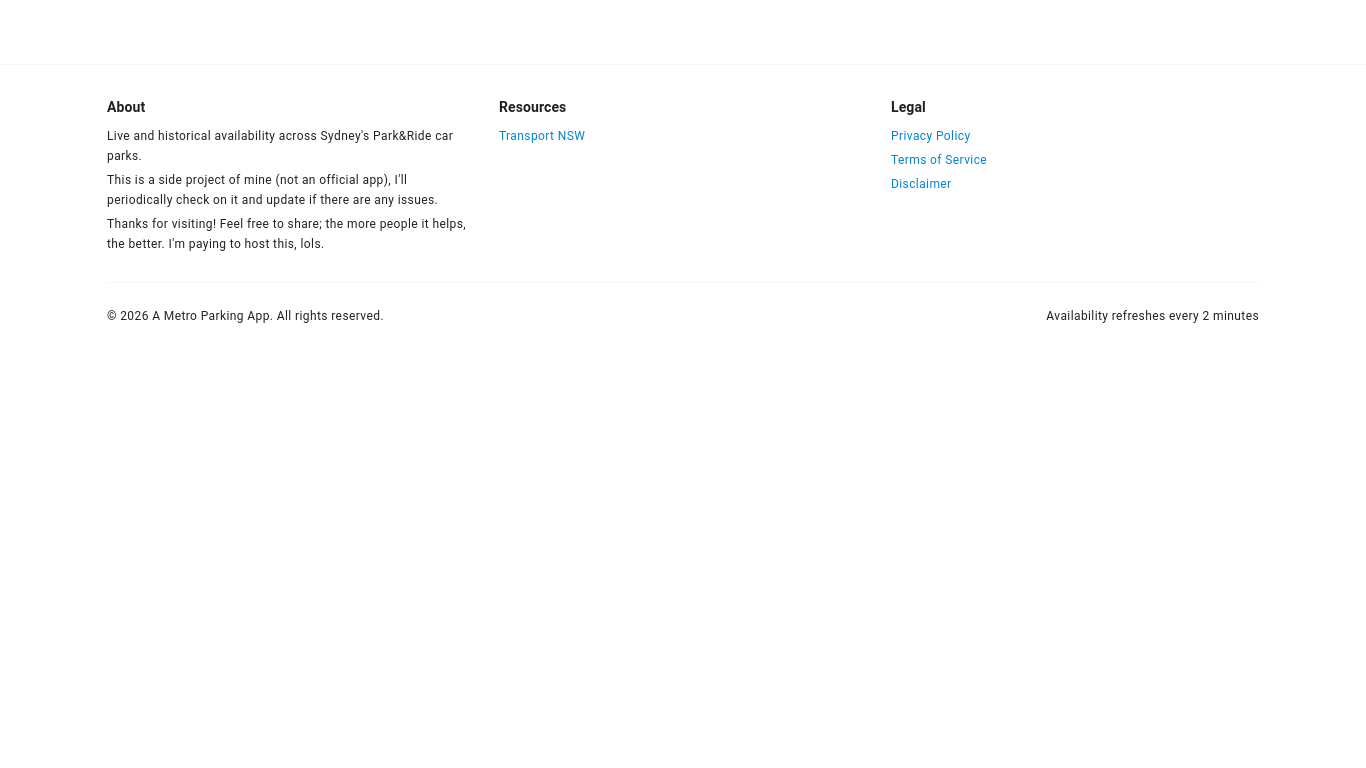
Test: Footer › opens disclaimer dialog
What coordinates should you click on to do the following:
click the button "Disclaimer"
I would click on:
 (921, 184)
Its box is 891,175 -> 1259,195.
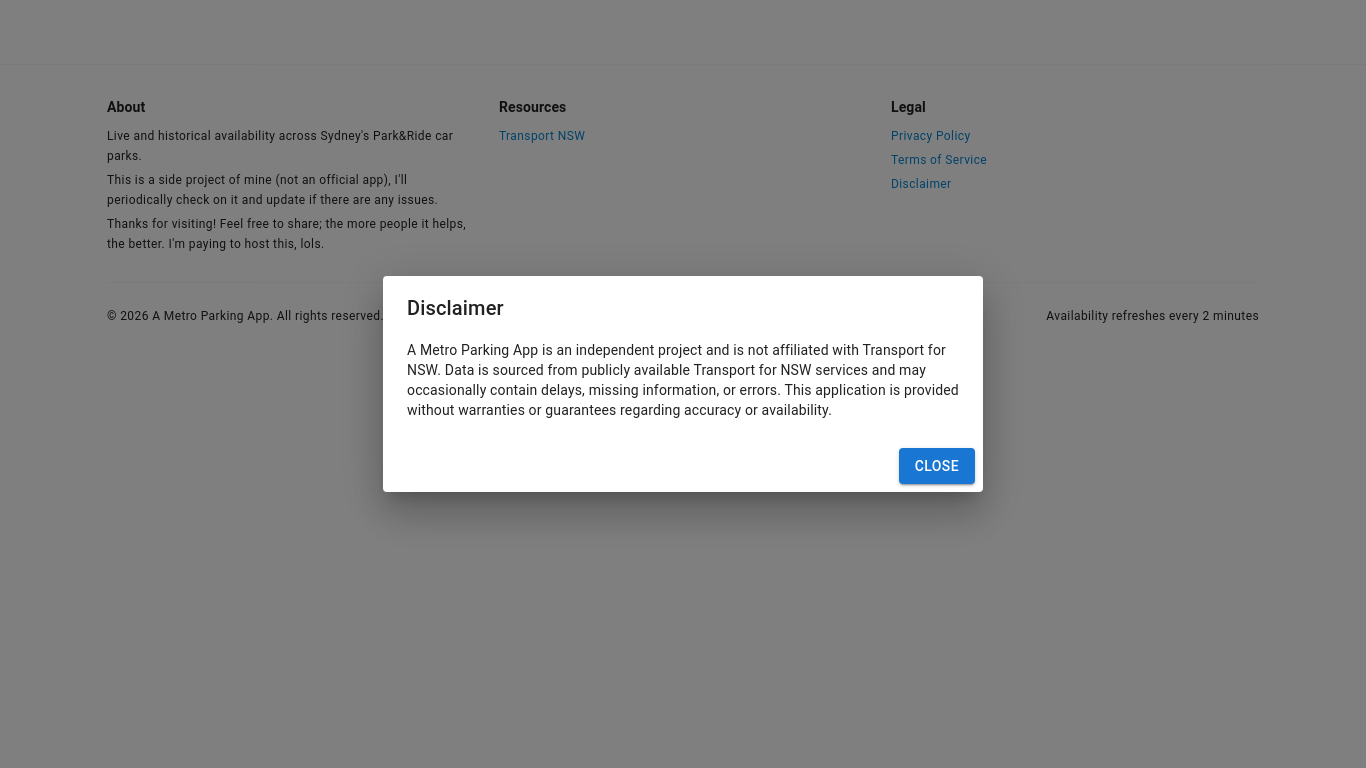
expect the dialog is shown: met, box 383,276 -> 983,492
expect the heading "Disclaimer" is shown: met, box 407,296 -> 504,320
expect the text "independent project" is shown: met, box 407,342 -> 959,418
